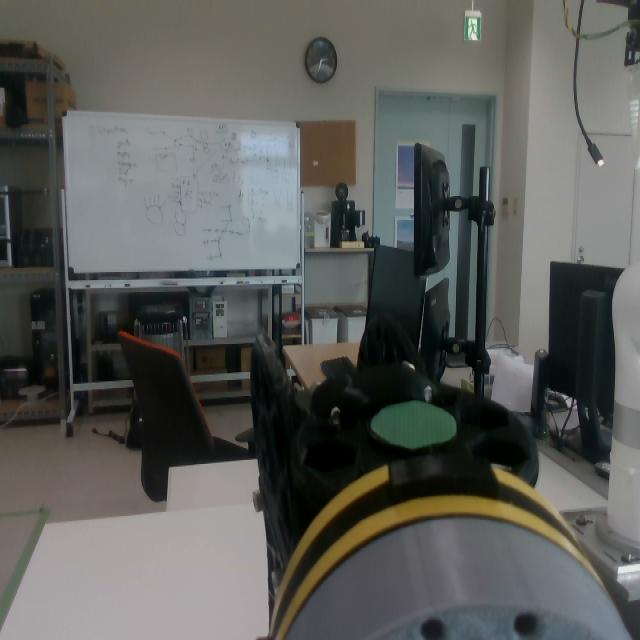body_connector: (278, 516, 638, 640)
connection: (257, 452, 633, 640)
leg: (252, 317, 601, 640)
leg_connector: (265, 451, 600, 640)
marker: (371, 401, 458, 449)
